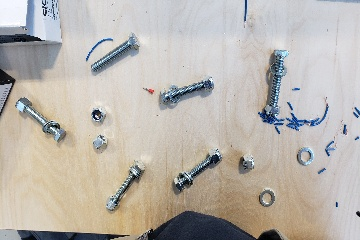Bolt: (90, 30, 140, 79)
FalseAssembly: (156, 73, 218, 111), (262, 44, 294, 117)
FinishedAssembly: (10, 91, 71, 145), (169, 144, 225, 196), (102, 155, 149, 216)
Nut: (87, 105, 109, 125), (239, 152, 259, 174), (90, 134, 112, 153)
Washer: (294, 146, 315, 167), (258, 188, 277, 208)
